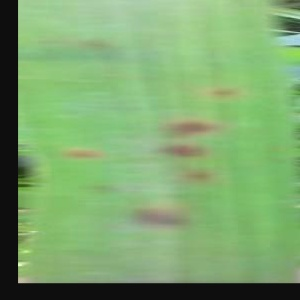Bacterial_Leaf_Blight: (118, 198, 203, 232), (153, 113, 227, 138), (151, 141, 212, 161), (74, 178, 125, 197), (72, 34, 117, 51), (64, 145, 104, 163), (206, 82, 243, 100), (178, 168, 215, 185)
